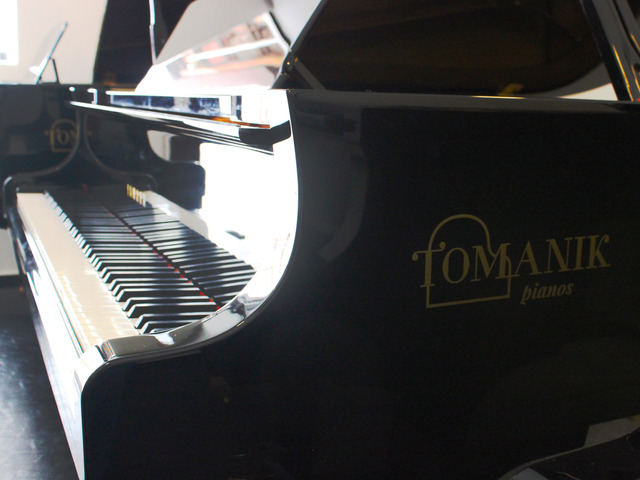Piano: (4, 0, 633, 472)
